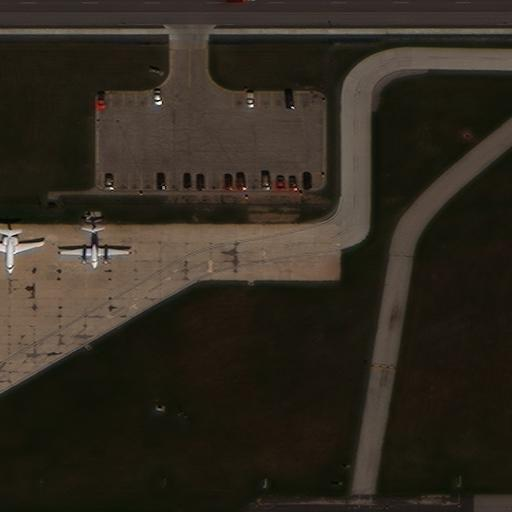Medium Civil Transport: (60, 228, 130, 268), (0, 229, 45, 274)
